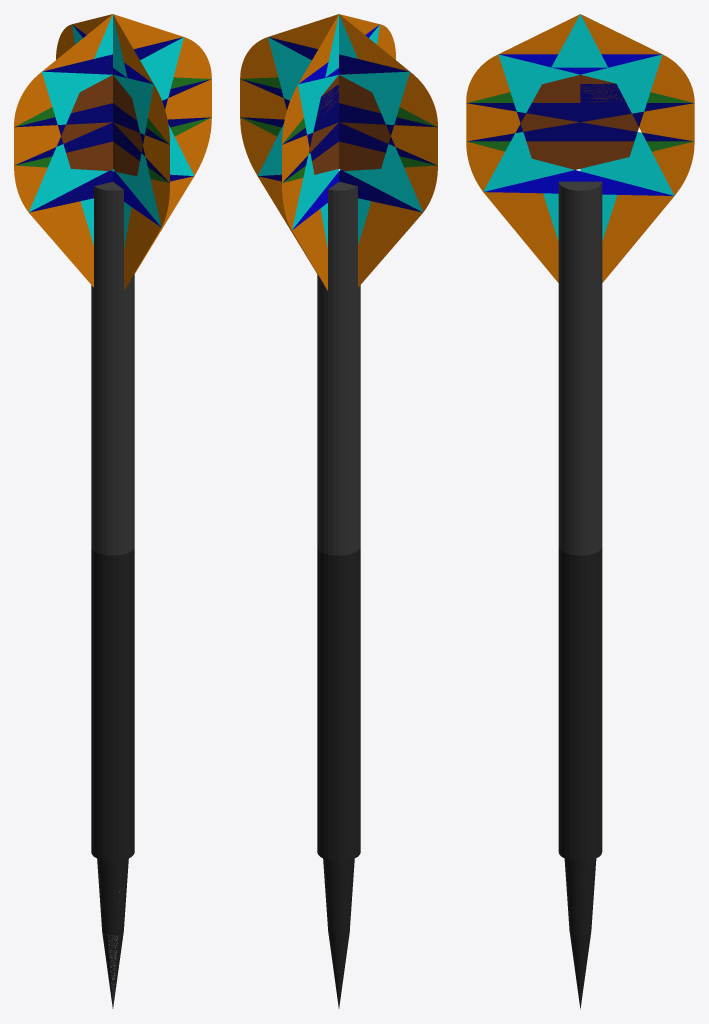
3 views of the same model, side by side, from view 1: azimuth 30°, elevation 25°; view 2: azimuth 150°, elevation 25°; view 3: azimuth 270°, elevation 25° (orthographic).
Parts seen in each view (by area): view 1: dart; view 2: dart; view 3: dart.
Boxes of the visible parts, box(x1,y1,x2,y2) form: dart: box(14, 14, 211, 1008); dart: box(240, 14, 437, 1008); dart: box(466, 14, 694, 1009).
Size of the model in its own units: 1.31 by 6.31 by 1.31.
